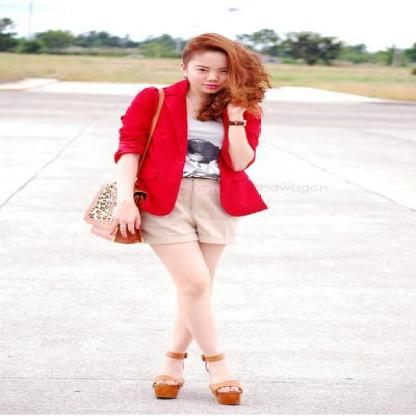bag: (83, 196, 146, 244)
jacket: (114, 78, 266, 216)
shirt: (183, 116, 223, 184)
shoe: (153, 352, 241, 405)
shorts: (134, 178, 236, 250)
